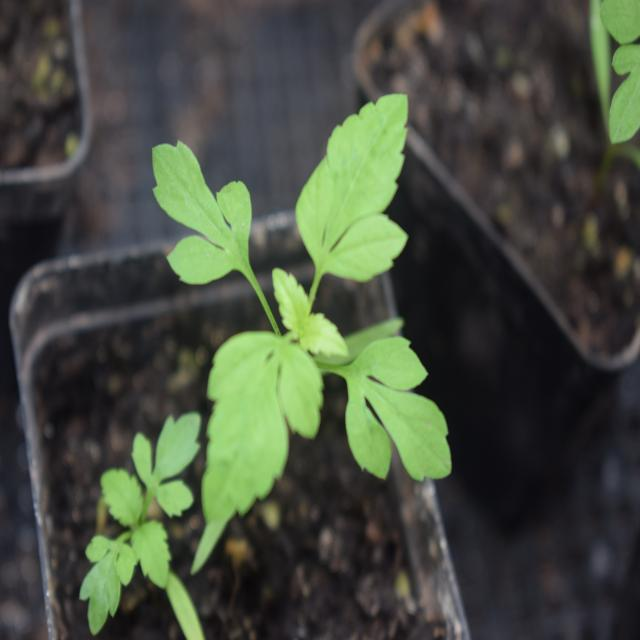Bidens pilosa: (139, 76, 475, 526)
